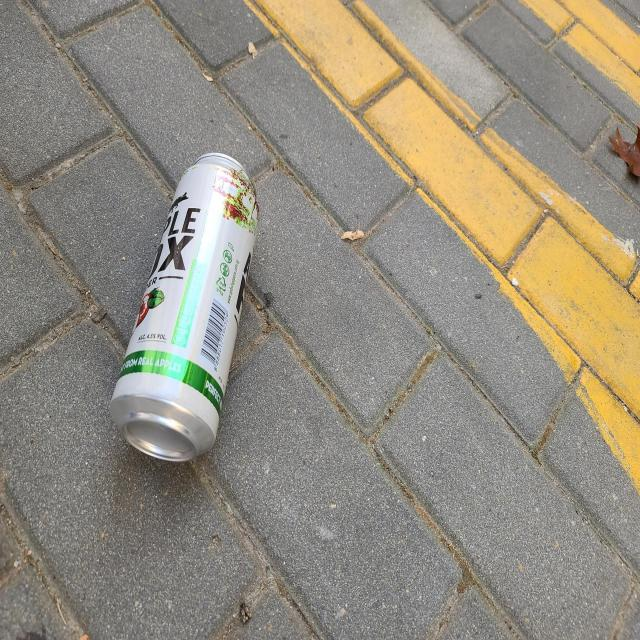can: (110, 152, 259, 462)
